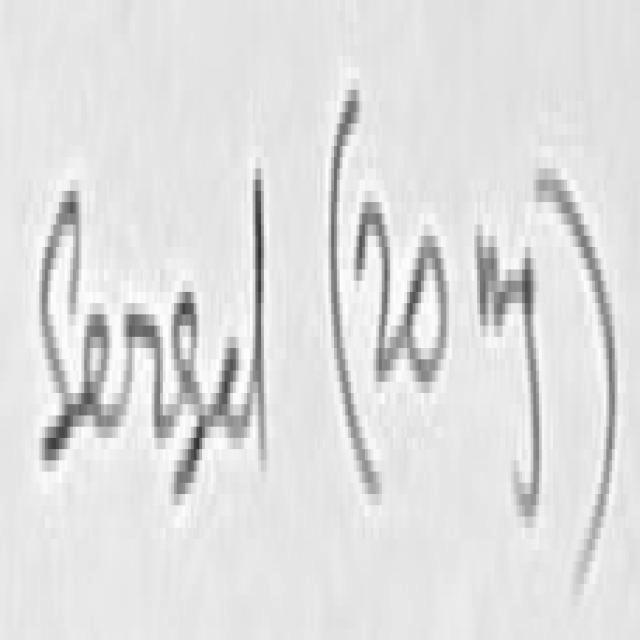0: (407, 236, 449, 382)
2: (356, 202, 407, 376)
S: (39, 191, 81, 455)
e: (84, 314, 126, 427), (219, 341, 252, 452)
g: (511, 244, 544, 537), (174, 292, 205, 488)
l: (240, 168, 267, 455)
m: (477, 236, 518, 326)
r: (119, 314, 174, 438)
